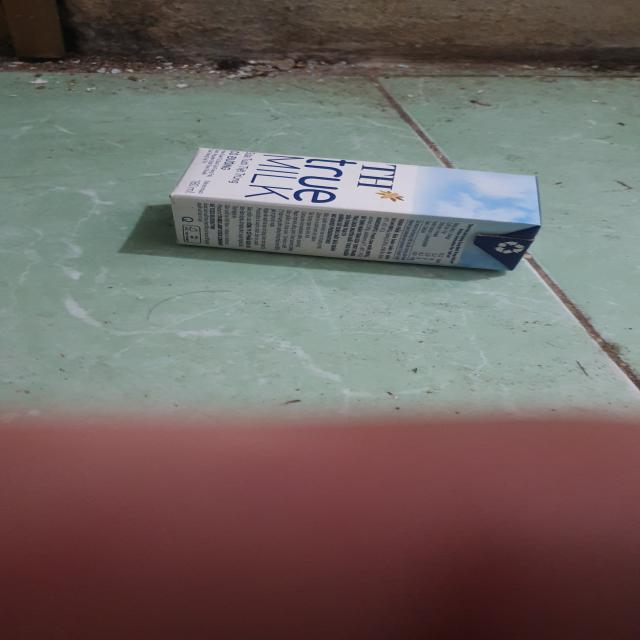TH: (169, 149, 544, 274)
